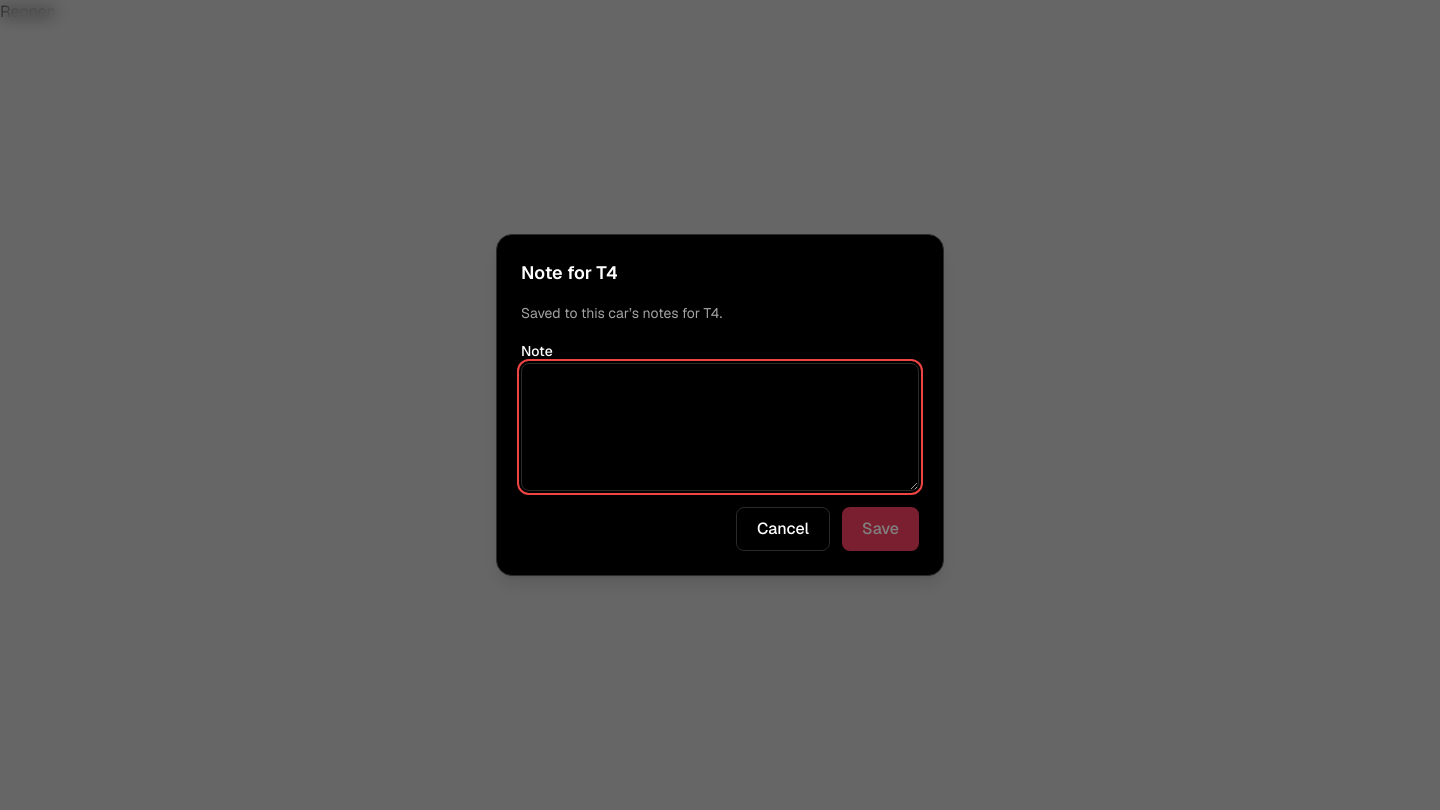
Scenario: QuickNote › stays open with the text when saving fails
In the text box labelled "Note": (720, 427) [521,363,919,491], type "Late"
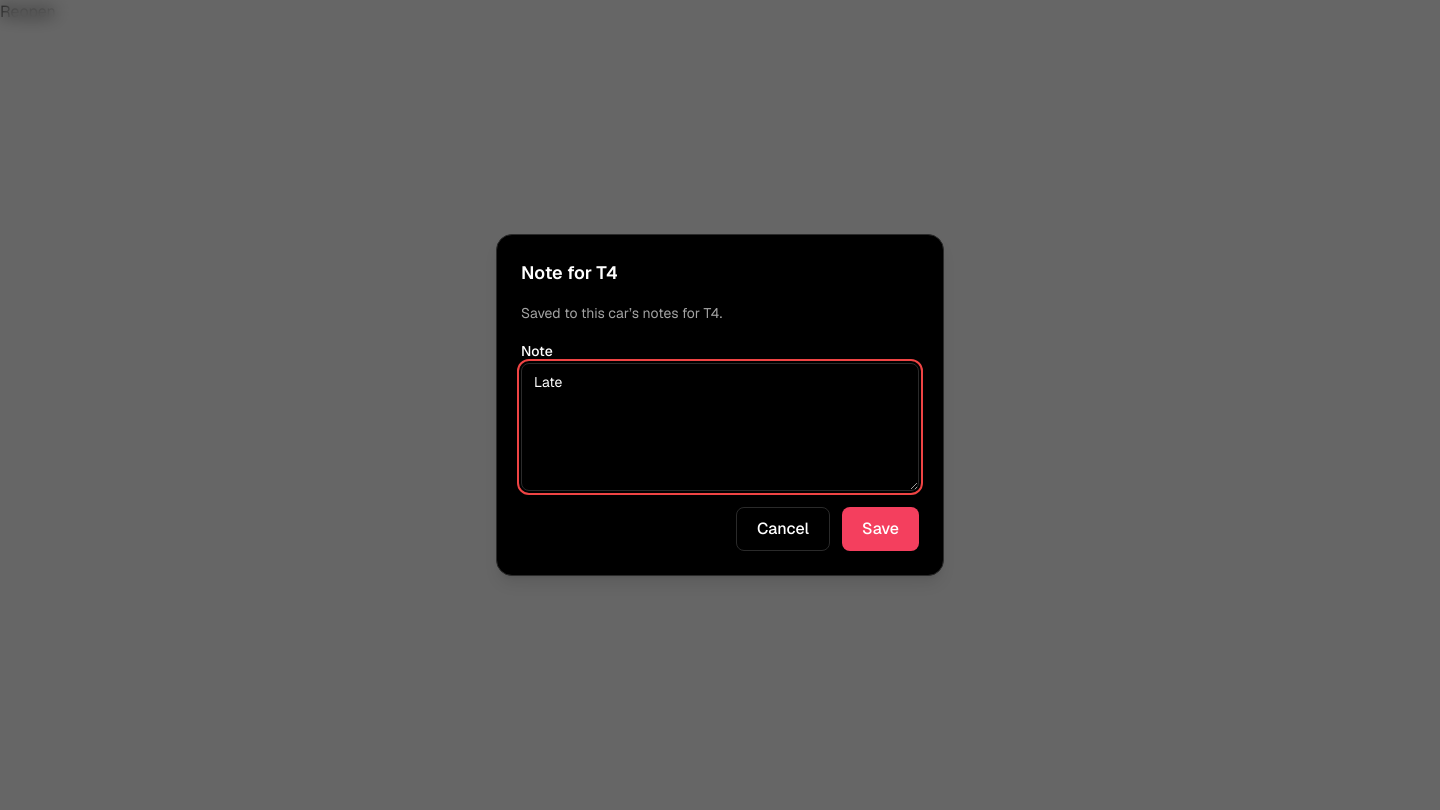
Click the button with aria-label "Save note": (880, 529) [842,507,919,551]
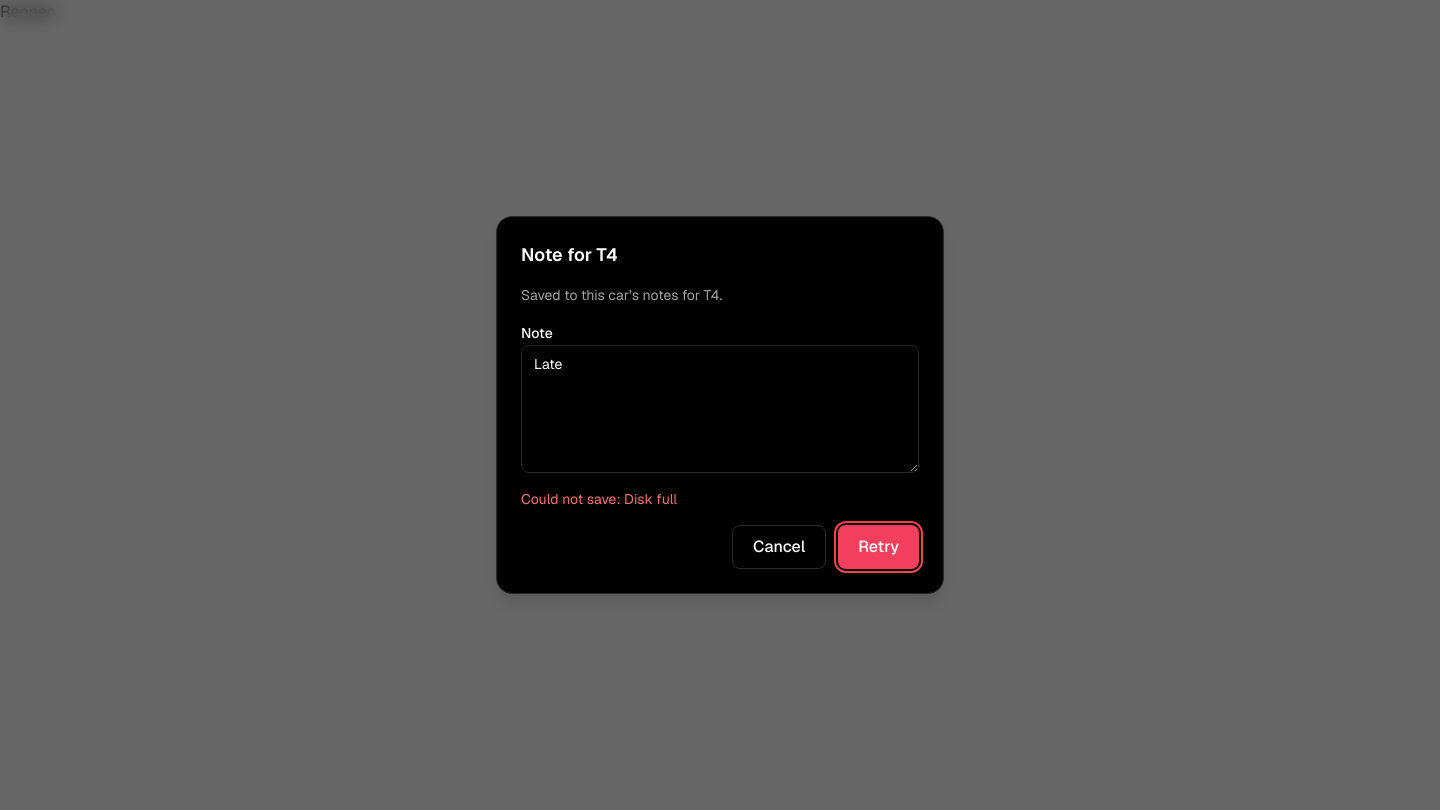
Now the message shows "Disk full", box [624,490,677,508]
